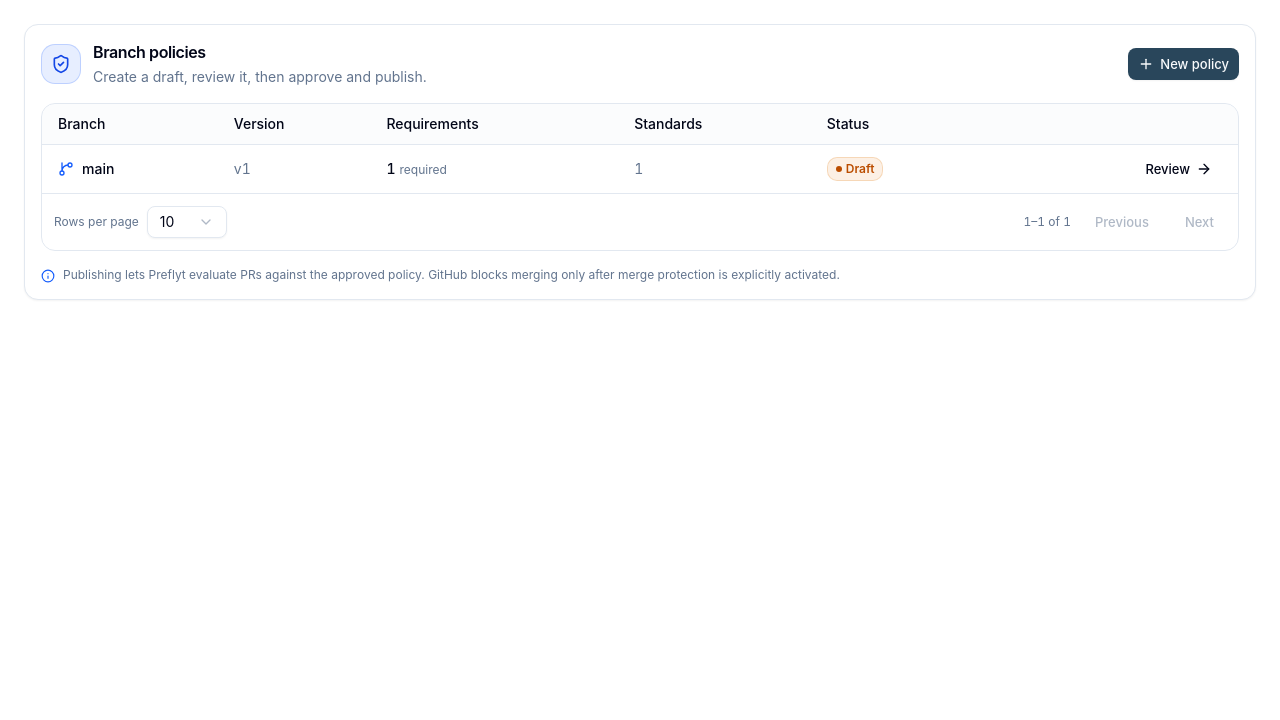
Scenario: preserves a saved template version when editing without offering other templates
Click the button with aria-label "Review main version 1" at x=1179, y=168, box [1135,152,1222,184]
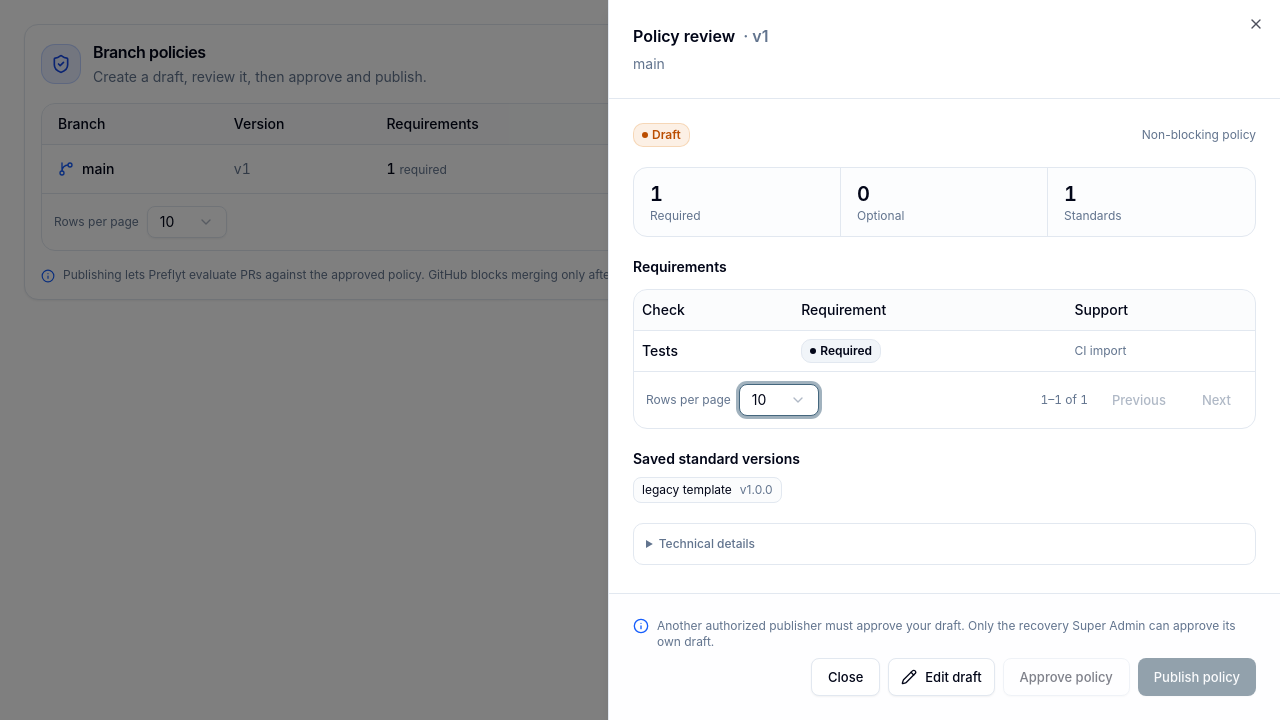
Click the button "Edit draft" at x=941, y=677, box [888,658,995,696]
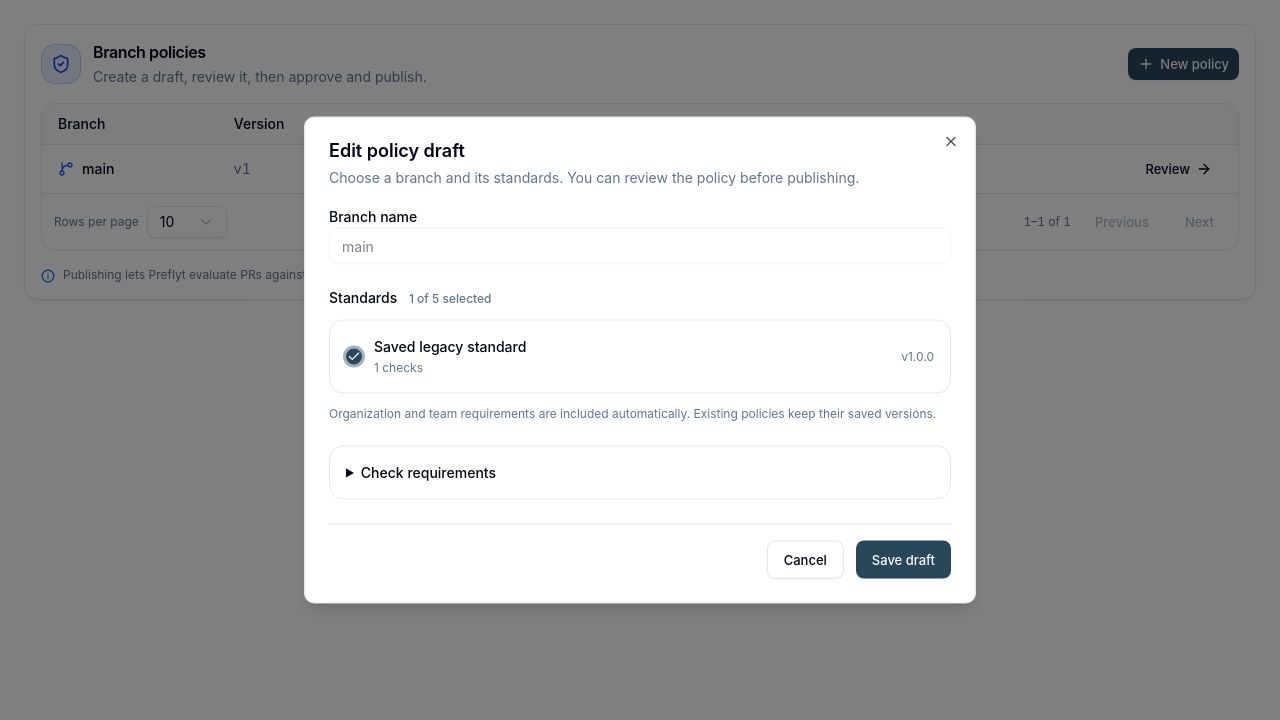
Expected: the checkbox named "Saved legacy standard" is checked, [346,348,362,364]
